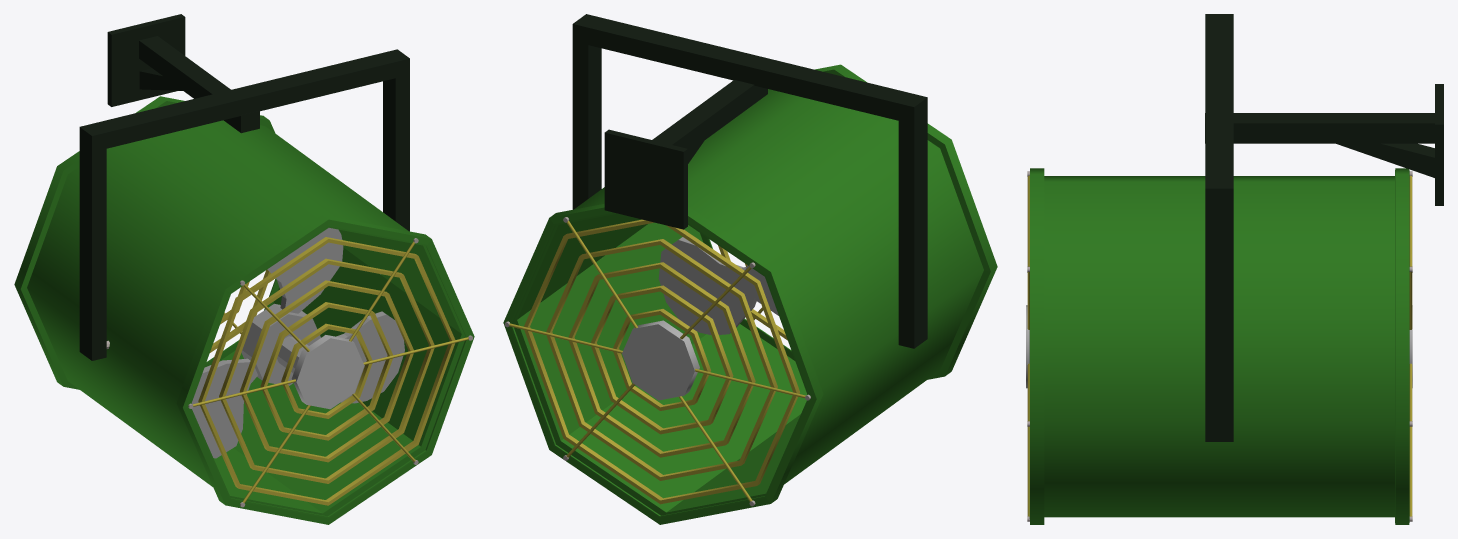
The model's file is Ventidador.fbx.
The picture shows the model from 3 angles, left to right: view 1: azimuth 30°, elevation 25°; view 2: azimuth 150°, elevation 25°; view 3: azimuth 270°, elevation 25°; orthographic projection. The views are drawn at different scales.
Parts seen in each view (by area): view 1: Ventidador; view 2: Ventidador; view 3: Ventidador.
Part boxes in pixels (<box>): Ventidador: <box>14,14,474,524</box>; Ventidador: <box>503,14,997,524</box>; Ventidador: <box>1026,14,1443,524</box>.
Size of the model in its own units: 634 by 706 by 640.
